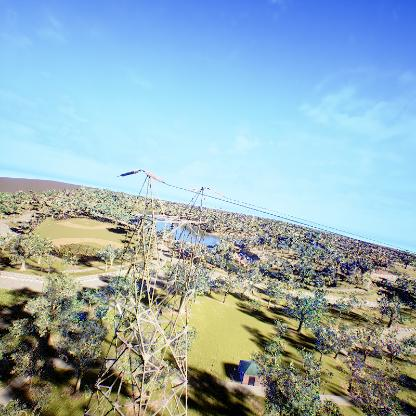tower: (83, 168, 225, 416)
